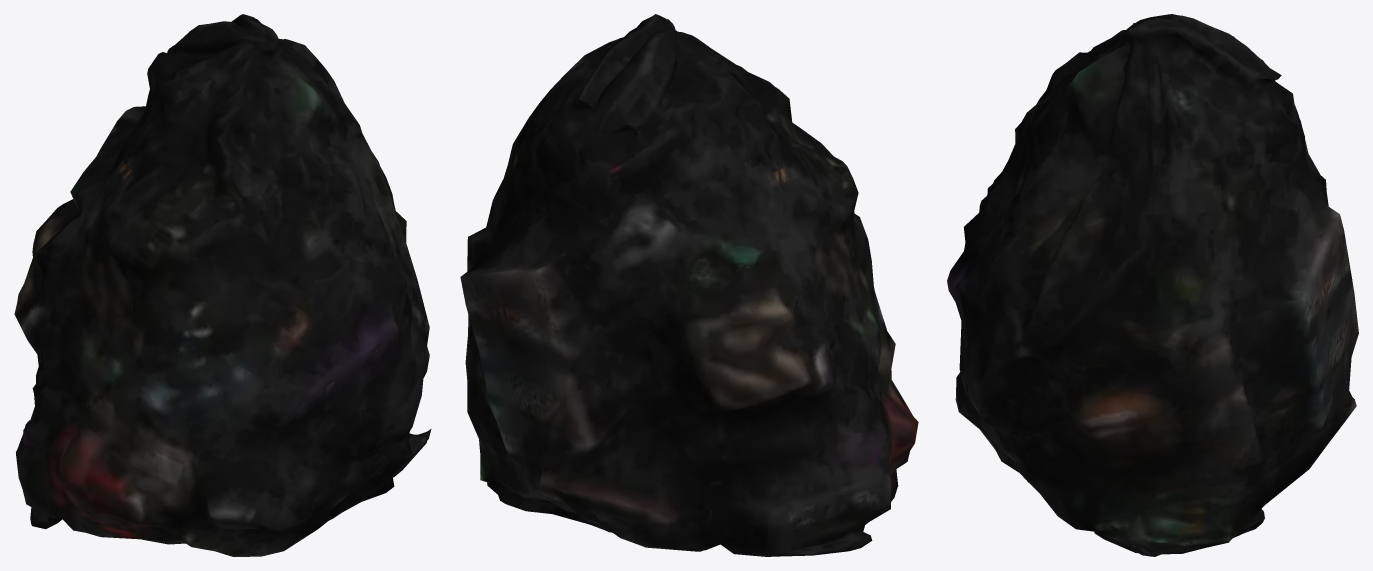
The model's file is trashbag.glb.
3 views of the same model, side by side, from view 1: azimuth 30°, elevation 25°; view 2: azimuth 150°, elevation 25°; view 3: azimuth 270°, elevation 25° (orthographic). The views are drawn at different scales.
Parts seen in each view (by area): view 1: trashbag; view 2: trashbag; view 3: trashbag.
Boxes of the visible parts, <box> form: trashbag: <box>14,14,431,556</box>; trashbag: <box>460,14,918,556</box>; trashbag: <box>947,14,1358,556</box>.
Size of the model in its own units: 0.5281 by 0.575 by 0.4629.
Materials: 1 (1 with a texture image).
